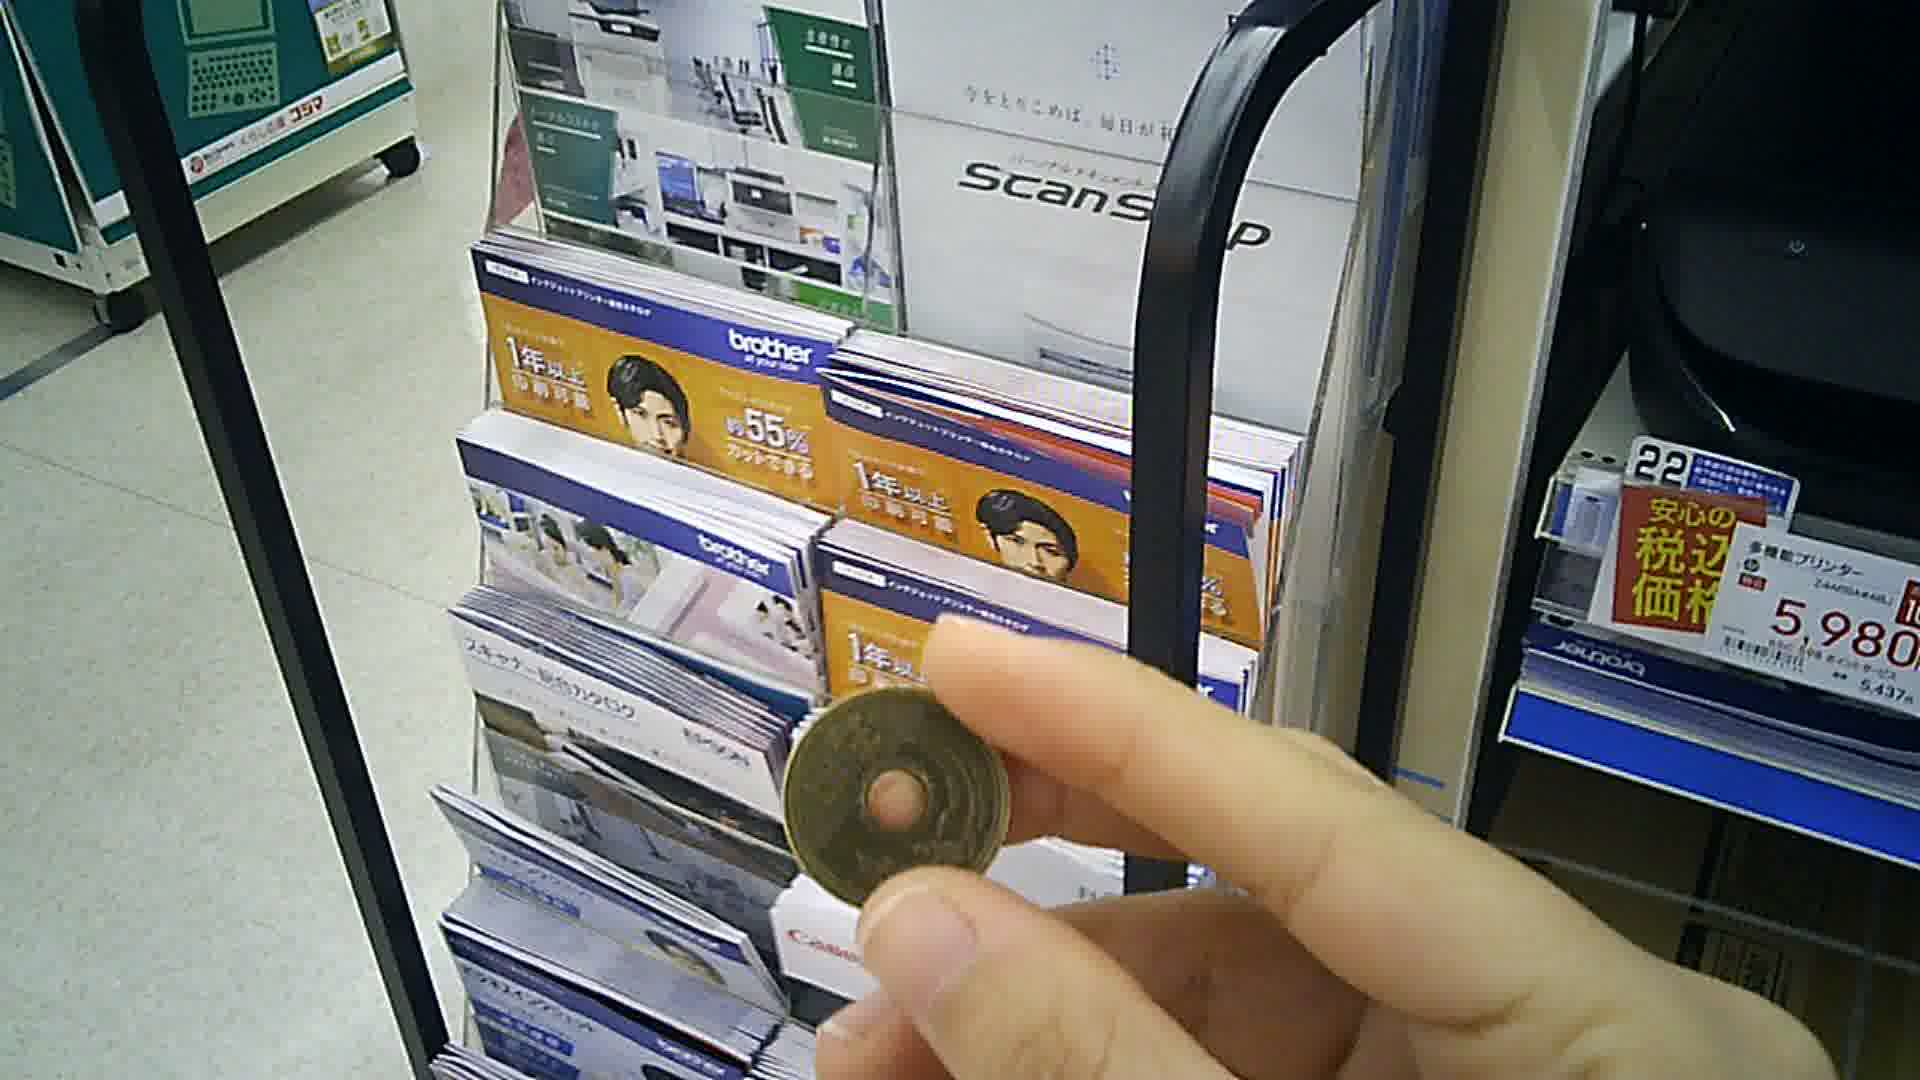5 Yen: (765, 684, 1017, 907)
